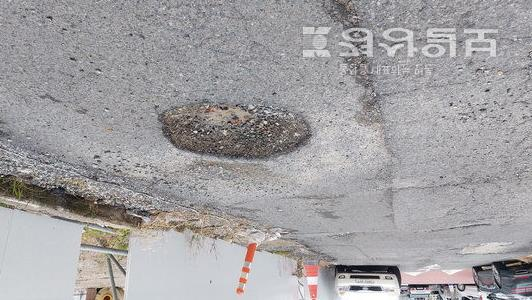pothole: (141, 103, 314, 166)
